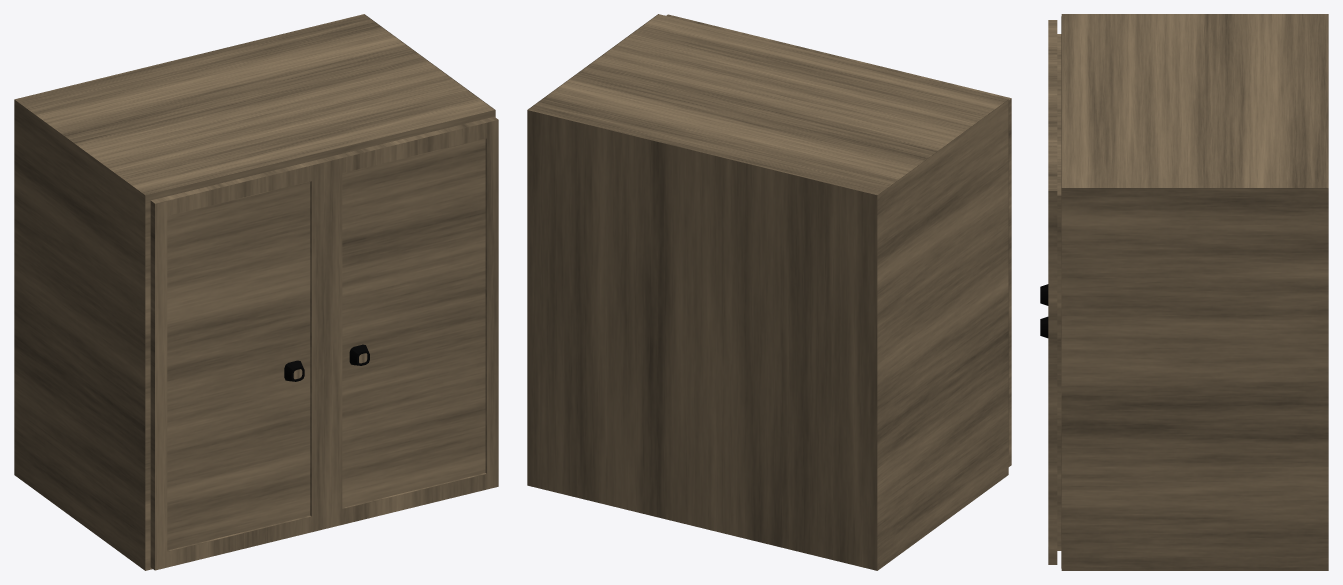
The model's file is GameJamCupboard.fbx.
3 views of the same model, side by side, from view 1: azimuth 30°, elevation 25°; view 2: azimuth 150°, elevation 25°; view 3: azimuth 270°, elevation 25° (orthographic).
Visible parts, largest first — view 1: Cupboard; view 2: Cupboard; view 3: Cupboard.
Boxes of the visible parts, x1,y1,x2,y2 form: Cupboard: (14,14,498,570); Cupboard: (527,14,1011,570); Cupboard: (1048,14,1328,570).
Size of the model in its own units: 215 by 220 by 150.
Materials: 2 (1 with a texture image).
